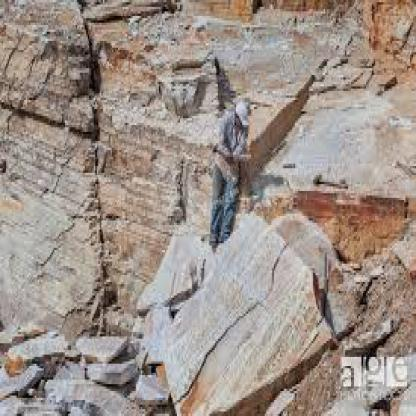Metamorphic_Quartize: (150, 196, 380, 414), (89, 21, 242, 325)
